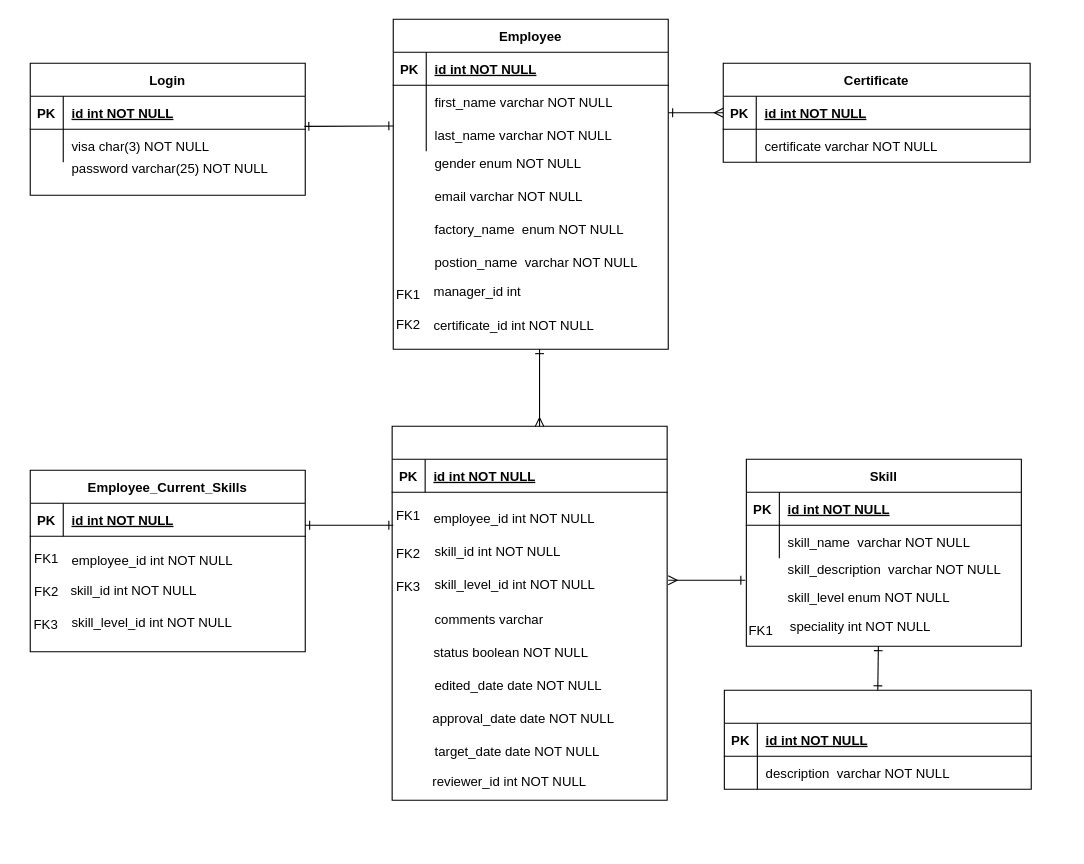
Some shapes in this 1084 by 864 pixel diagram are drawn without their labels. Each missing label, with the box of its shape:
Employee_Skills: (391, 425, 667, 800)
Speciality: (723, 689, 1031, 789)
